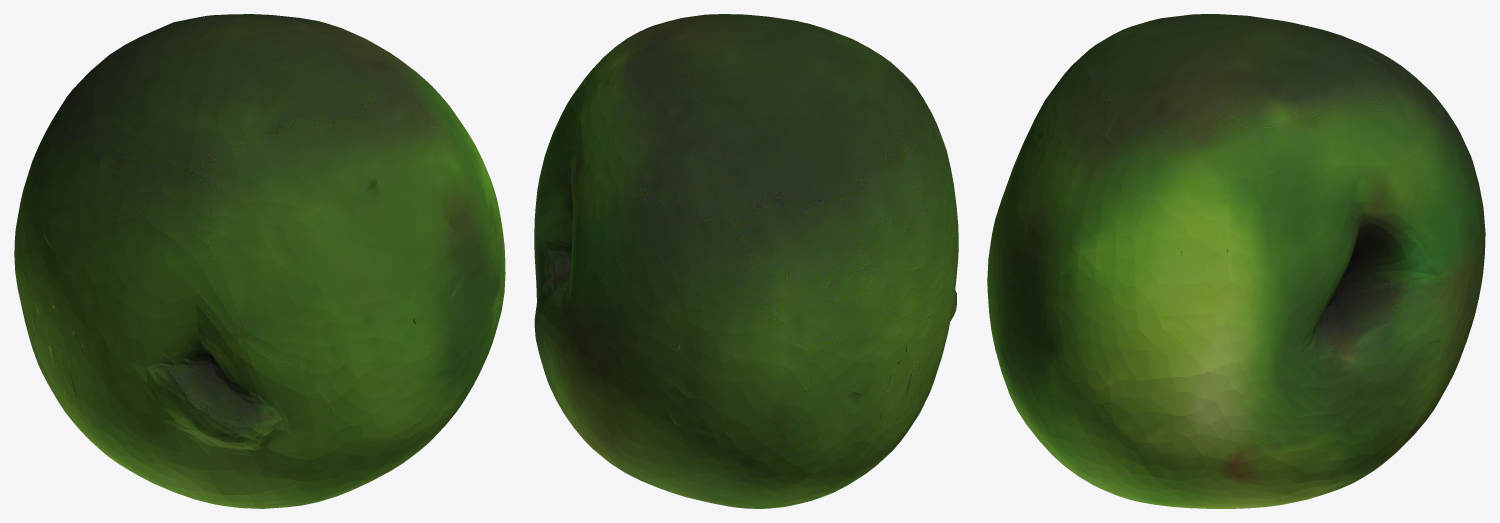
Rendered from green_apple_on_the_plate_000.glb.
3 renders of one model, left to right at view 1: azimuth 30°, elevation 25°; view 2: azimuth 150°, elevation 25°; view 3: azimuth 270°, elevation 25°, orthographic. The views are drawn at different scales.
Visible parts, largest first — view 1: green_apple_on_the_plate_000.obj; view 2: green_apple_on_the_plate_000.obj; view 3: green_apple_on_the_plate_000.obj.
Part boxes in pixels (x1,y1,x2,y2): green_apple_on_the_plate_000.obj: (14,14,505,508); green_apple_on_the_plate_000.obj: (534,14,958,508); green_apple_on_the_plate_000.obj: (987,14,1485,508).
Size of the model in its own units: 0.1735 by 0.1836 by 0.1809.
1 material, 1 textured.
